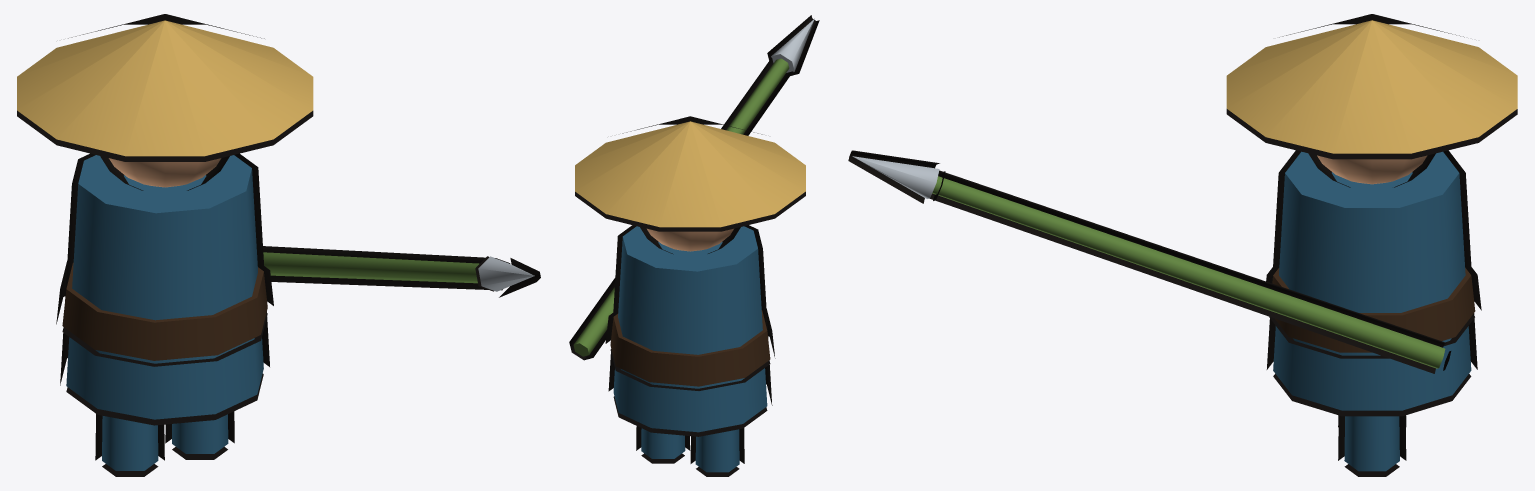
Rendered from danbinh.glb.
3 renders of one model, left to right at view 1: azimuth 30°, elevation 25°; view 2: azimuth 150°, elevation 25°; view 3: azimuth 270°, elevation 25°, orthographic. The views are drawn at different scales.
Parts seen in each view (by area): view 1: MB_Torso, MB_NonLa, MB_Belt, MB_Shaft, MB_Torso_outline, MB_Shaft_outline, MB_Leg_0, MB_NonLa_outline, MB_Head, MB_Leg_1, MB_Belt_outline, MB_Tip (+3 smaller); view 2: MB_Torso, MB_NonLa, MB_Belt, MB_Shaft, MB_Torso_outline, MB_Leg_0, MB_Shaft_outline, MB_NonLa_outline, MB_Head, MB_Leg_1, MB_Belt_outline, MB_Tip (+4 smaller); view 3: MB_Torso, MB_NonLa, MB_Shaft, MB_Shaft_outline, MB_Belt, MB_Torso_outline, MB_Leg_1, MB_NonLa_outline, MB_Head, MB_Tip, MB_Tip_outline, MB_Belt_outline (+1 smaller).
Part boxes in pixels (x1,y1,x2,y2): MB_Torso: (66,155,263,419); MB_NonLa: (17,20,313,156); MB_Belt: (62,262,267,360); MB_Shaft: (263,252,479,283); MB_Torso_outline: (60,153,269,425); MB_Shaft_outline: (263,246,510,290); MB_Leg_0: (102,416,158,470); MB_NonLa_outline: (17,14,313,161); MB_Head: (109,158,221,187); MB_Leg_1: (172,414,228,453); MB_Belt_outline: (56,261,273,366); MB_Tip: (478,256,534,291); MB_Torso: (613,226,767,432); MB_NonLa: (575,121,805,227); MB_Belt: (610,310,770,386); MB_Shaft: (573,58,789,356); MB_Torso_outline: (608,225,772,436); MB_Leg_0: (695,429,739,472); MB_Shaft_outline: (569,51,797,360); MB_NonLa_outline: (575,116,805,231); MB_Head: (647,228,733,251); MB_Leg_1: (641,428,685,458); MB_Belt_outline: (605,309,775,390); MB_Tip: (771,18,814,72); MB_Torso: (1273,151,1471,410); MB_NonLa: (1226,20,1517,153); MB_Shaft: (932,176,1445,368); MB_Shaft_outline: (916,166,1451,373); MB_Belt: (1272,267,1475,352); MB_Torso_outline: (1266,150,1477,416); MB_Leg_1: (1344,416,1399,471); MB_NonLa_outline: (1226,14,1517,159); MB_Head: (1317,155,1427,184); MB_Tip: (852,156,939,198); MB_Tip_outline: (848,150,945,203); MB_Belt_outline: (1266,267,1481,358).
Size of the model in its own units: 0.7485 by 1.21 by 1.7.
